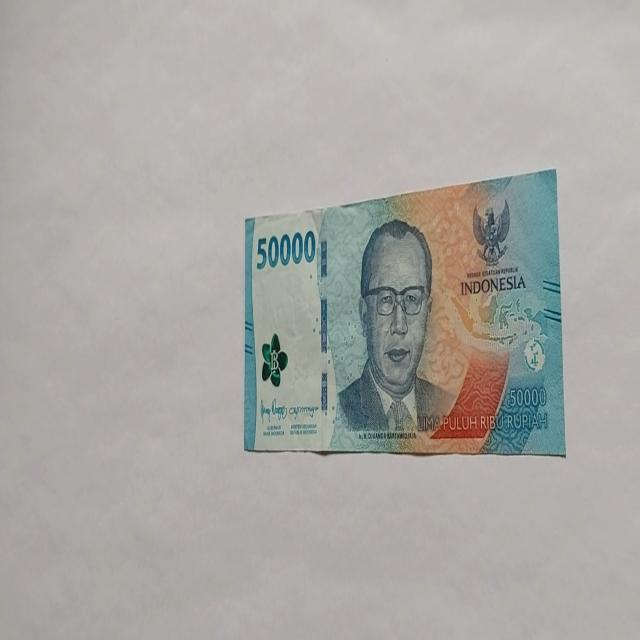lima puluh ribu rupiah: (242, 167, 566, 458), (333, 216, 457, 444)
